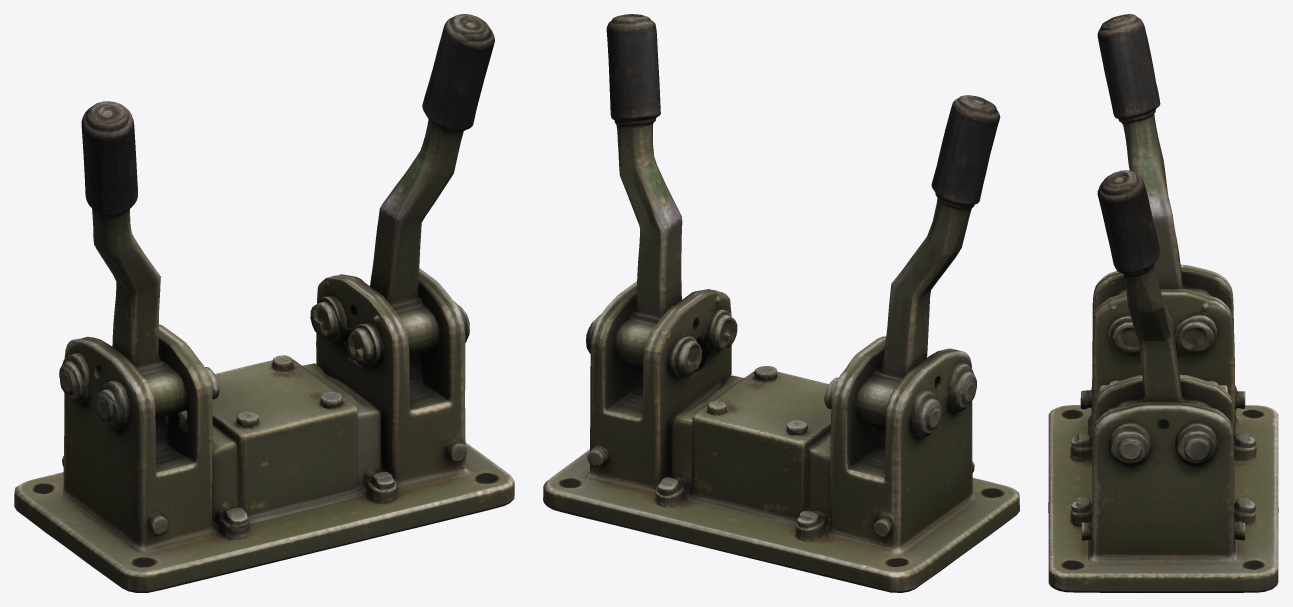
File: (Gear)f0f93dc8-dd1e-4ed1-8ea5-99d44adafc33.glb
3 views of the same model, side by side, from view 1: azimuth 30°, elevation 25°; view 2: azimuth 150°, elevation 25°; view 3: azimuth 270°, elevation 25° (orthographic). The views are drawn at different scales.
Parts seen in each view (by area): view 1: world; view 2: world; view 3: world.
Part boxes in pixels (bbox=[...]): world: bbox=[14, 14, 514, 592]; world: bbox=[543, 14, 1019, 592]; world: bbox=[1048, 14, 1278, 592].
Bounding box in the file's own units: 0.631 × 0.6873 × 0.3437.
Materials: 1 (1 with a texture image).
